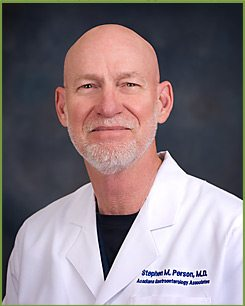person: (6, 21, 243, 306)
